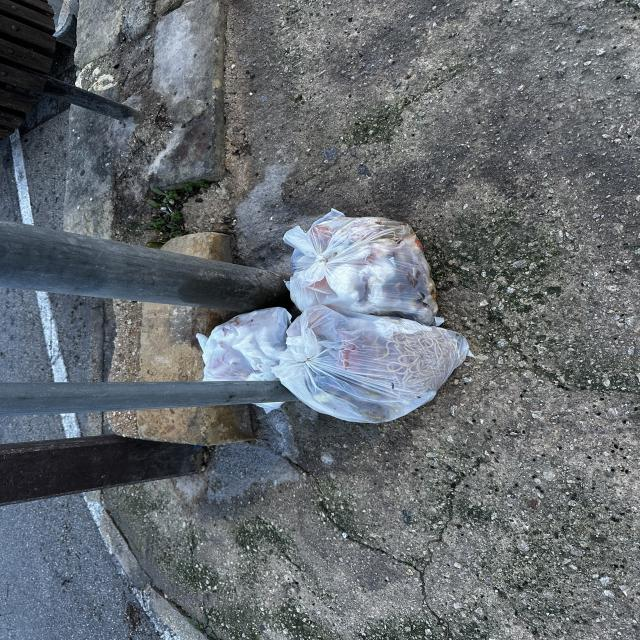Organic Waste -White Bags-: (197, 209, 476, 423)
